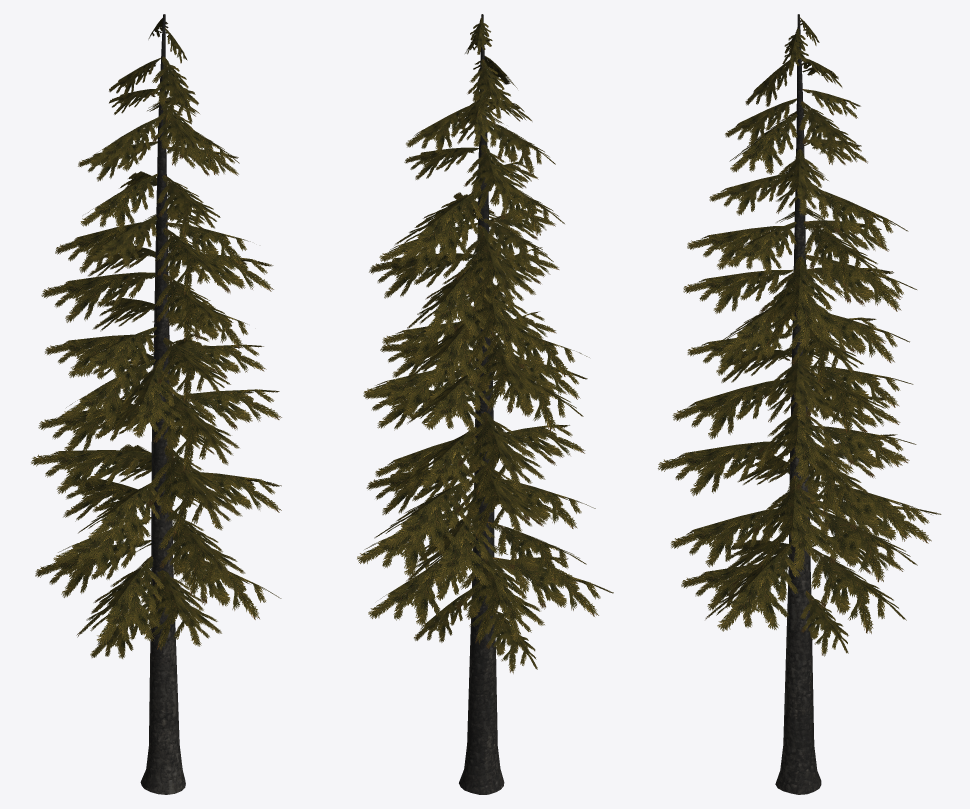
The model's file is pine_tree_n_3_2.obj.
3 views of the same model, side by side, from view 1: azimuth 30°, elevation 25°; view 2: azimuth 150°, elevation 25°; view 3: azimuth 270°, elevation 25° (orthographic).
Parts seen in each view (by area): view 1: pine_tree_n_3_2_branches, pine_tree_n_3_2; view 2: pine_tree_n_3_2_branches, pine_tree_n_3_2; view 3: pine_tree_n_3_2_branches, pine_tree_n_3_2.
Boxes of the visible parts, bbox=[...] form: pine_tree_n_3_2_branches: bbox=[31, 18, 281, 658]; pine_tree_n_3_2: bbox=[140, 14, 185, 794]; pine_tree_n_3_2_branches: bbox=[357, 18, 613, 673]; pine_tree_n_3_2: bbox=[459, 14, 504, 794]; pine_tree_n_3_2_branches: bbox=[658, 17, 941, 656]; pine_tree_n_3_2: bbox=[775, 14, 821, 794].
Bounding box in the file's own units: 2.69 × 8.19 × 2.97.
